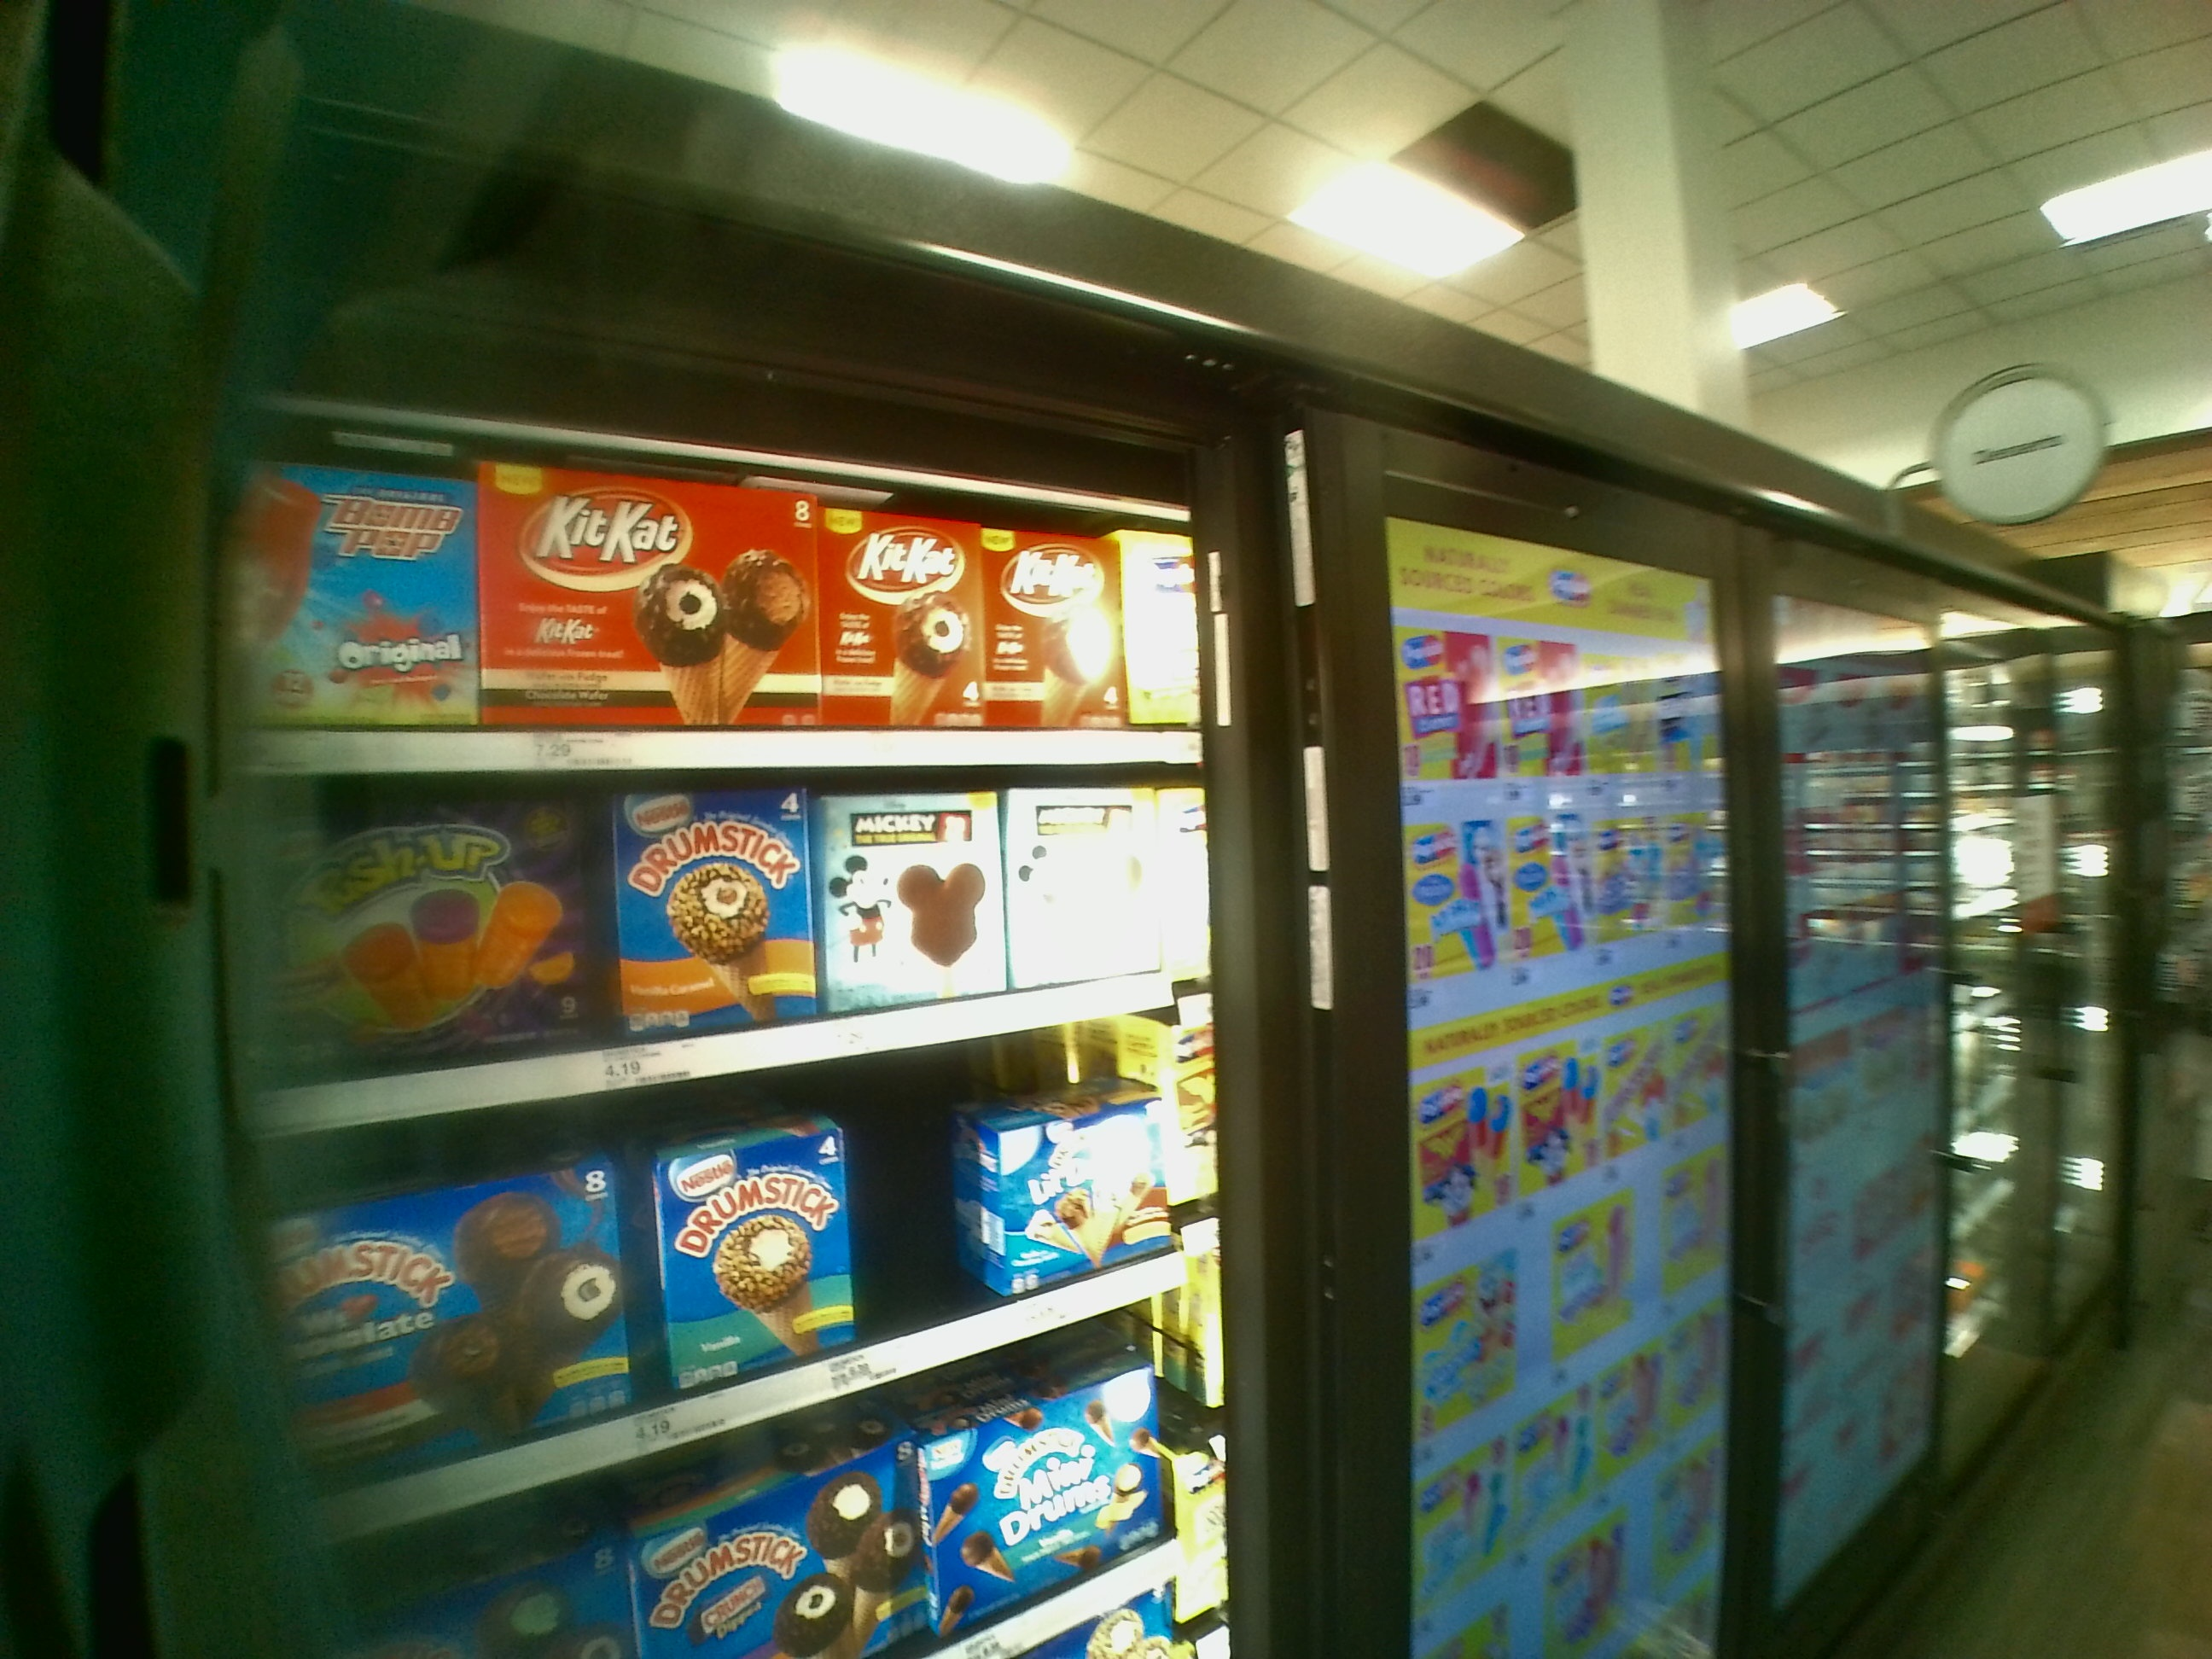shelf: (226, 1073, 1214, 1417), (223, 422, 1186, 762), (230, 760, 1211, 1073)
